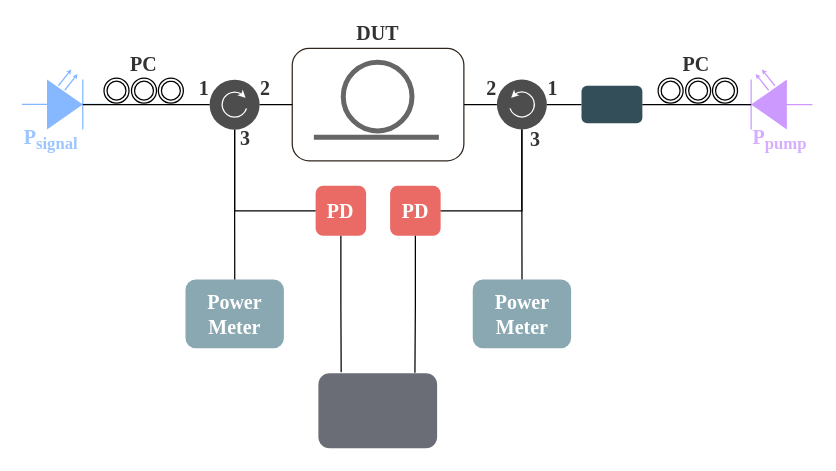
The diagram is 836 pixels wide and 471 high, and some of its shapes have lost their labels. The shapes that lost their labels are listed below. From the top down, each one's box as (x1, y1, x2, y2) in pixels, then its label:
(581, 85, 642, 123): MOD
(318, 373, 436, 448): Oscilloscope
